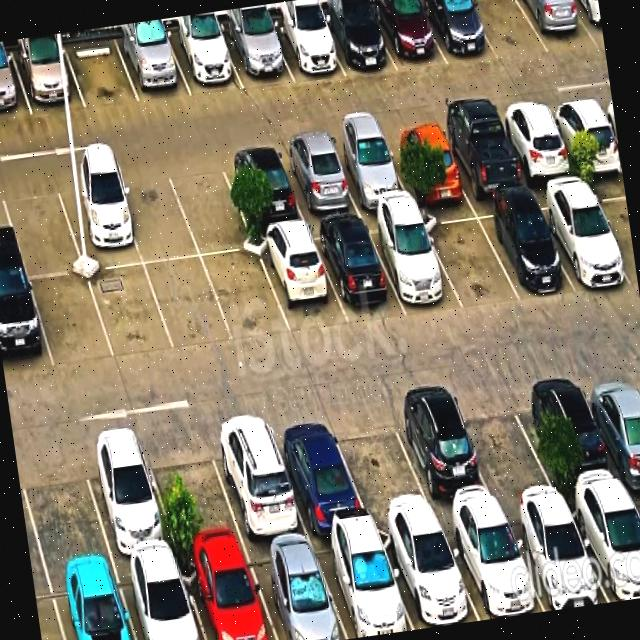empty: (24, 460, 109, 588), (157, 450, 235, 567), (344, 426, 425, 536), (434, 213, 510, 312), (124, 162, 190, 266), (92, 258, 162, 356), (36, 274, 108, 369), (181, 152, 247, 252), (5, 188, 76, 280), (208, 245, 275, 339), (152, 253, 218, 342), (68, 24, 132, 114), (471, 0, 533, 56)
occupied: (216, 444, 301, 564), (92, 462, 174, 578), (403, 406, 483, 524), (289, 438, 362, 558), (533, 379, 605, 498), (468, 396, 542, 511), (556, 186, 626, 301), (396, 532, 476, 630), (382, 212, 453, 320), (329, 538, 404, 640), (496, 196, 566, 304), (462, 520, 536, 622), (62, 165, 135, 267), (528, 510, 599, 612), (395, 110, 462, 218), (261, 549, 340, 640), (327, 216, 393, 324), (454, 108, 520, 215), (225, 143, 298, 239), (263, 230, 333, 330), (559, 94, 623, 200), (508, 104, 572, 209), (189, 559, 270, 640), (338, 128, 402, 222), (122, 18, 184, 108), (587, 500, 640, 603), (592, 377, 640, 489), (288, 137, 348, 226), (127, 573, 202, 640), (174, 10, 233, 94), (54, 581, 137, 640), (227, 3, 285, 87), (277, 0, 335, 84), (325, 0, 387, 77), (16, 33, 74, 111), (0, 281, 46, 374), (378, 0, 437, 70), (428, 0, 485, 63), (517, 0, 577, 42), (0, 40, 20, 120)
